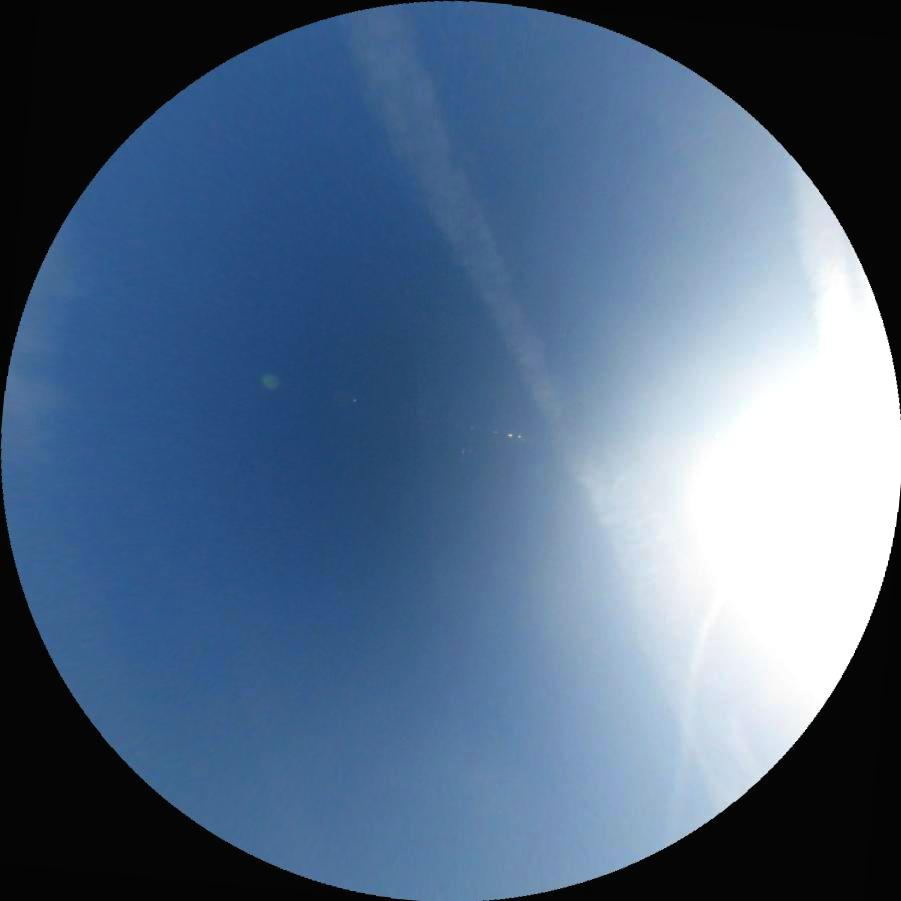contrail old: (647, 536, 751, 845)
contrail veryold: (775, 151, 872, 386)
sun: (743, 396, 901, 582)
